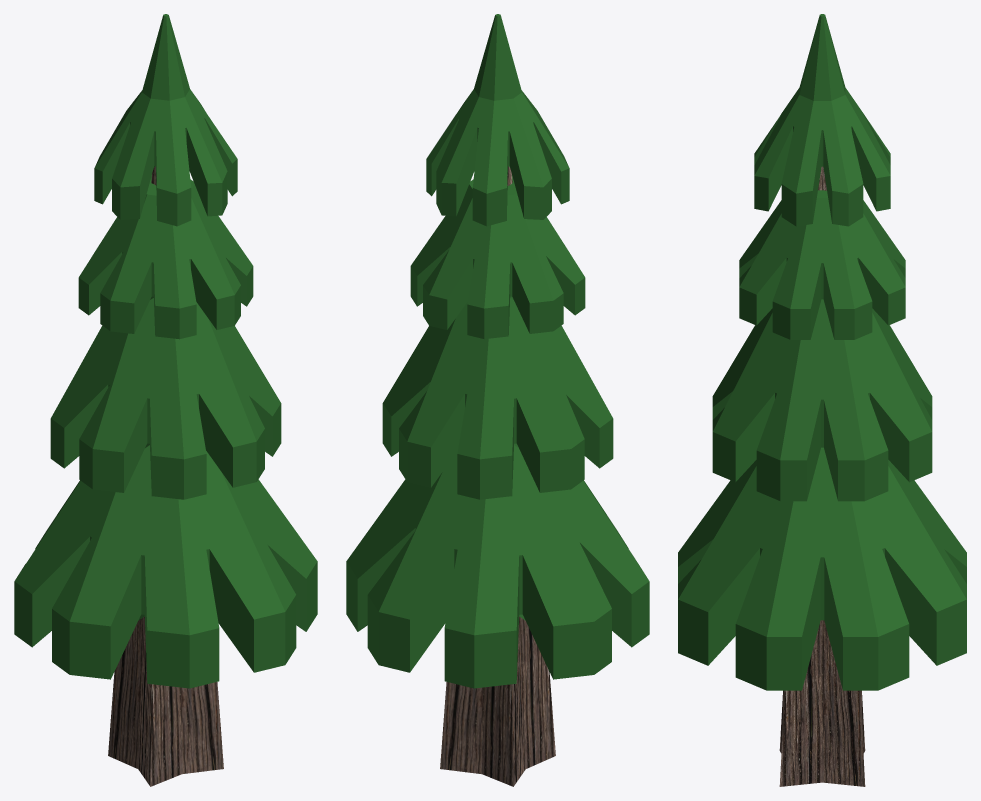
File: longpine.fbx
The picture shows the model from 3 angles, left to right: view 1: azimuth 30°, elevation 25°; view 2: azimuth 150°, elevation 25°; view 3: azimuth 270°, elevation 25°; orthographic projection.
Visible parts, largest first — view 1: TREE; view 2: TREE; view 3: TREE.
Boxes of the visible parts, bbox=[...] form: TREE: bbox=[14, 14, 317, 786]; TREE: bbox=[346, 14, 649, 786]; TREE: bbox=[678, 14, 966, 786].
Size of the model in its own units: 200 by 200 by 576.
